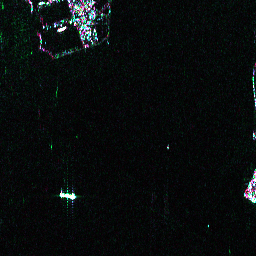ship: (57, 190, 78, 202), (55, 24, 69, 35)
